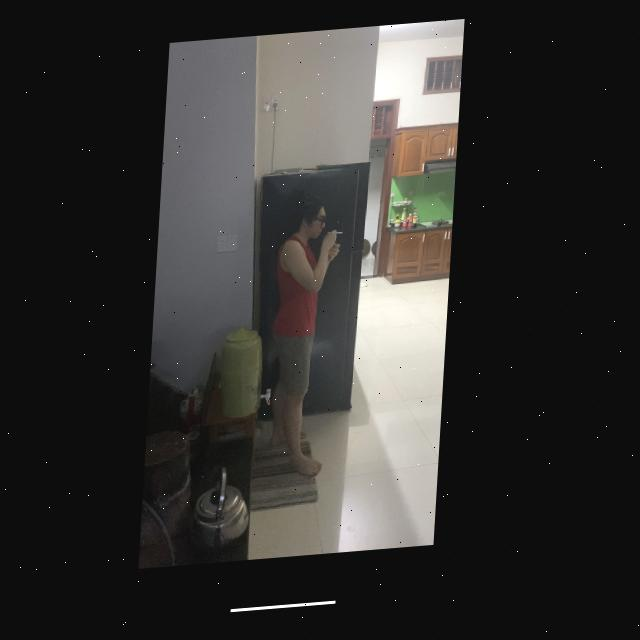cigarette: (330, 237, 345, 241)
